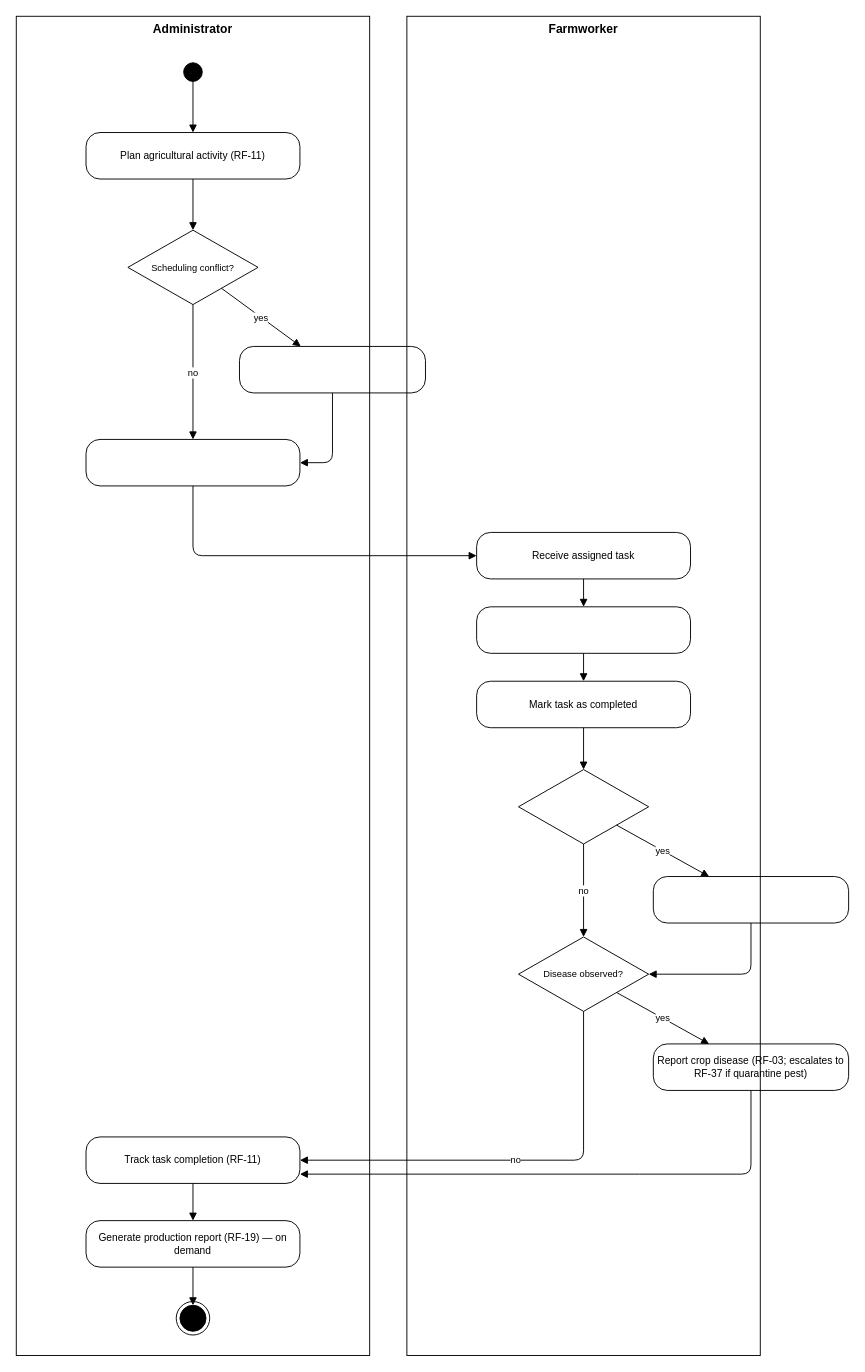
This 865x1372 diagram has some shape labels left out. Each missing label, with the centre of its shape:
Activity type = Harvest?: the point at 583,806
Assign task to worker (RF-11): the point at 192,462
Confirm scheduling anyway: the point at 332,369
Execute activity in the field and register it (RF-03): the point at 583,629
Register harvest (quantity, unit) (RF-04): the point at 750,899
